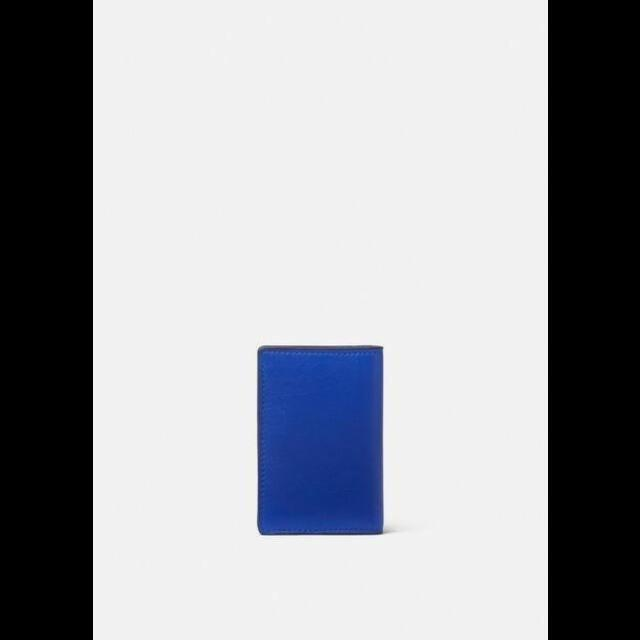Wallet: (250, 340, 386, 540)
